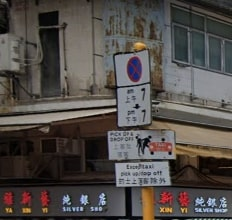Start Of No Stopping: (111, 50, 153, 127)
